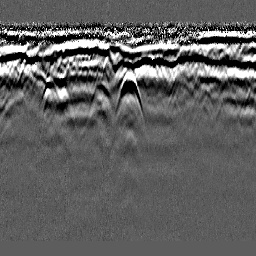cavity: (113, 68, 147, 125)
